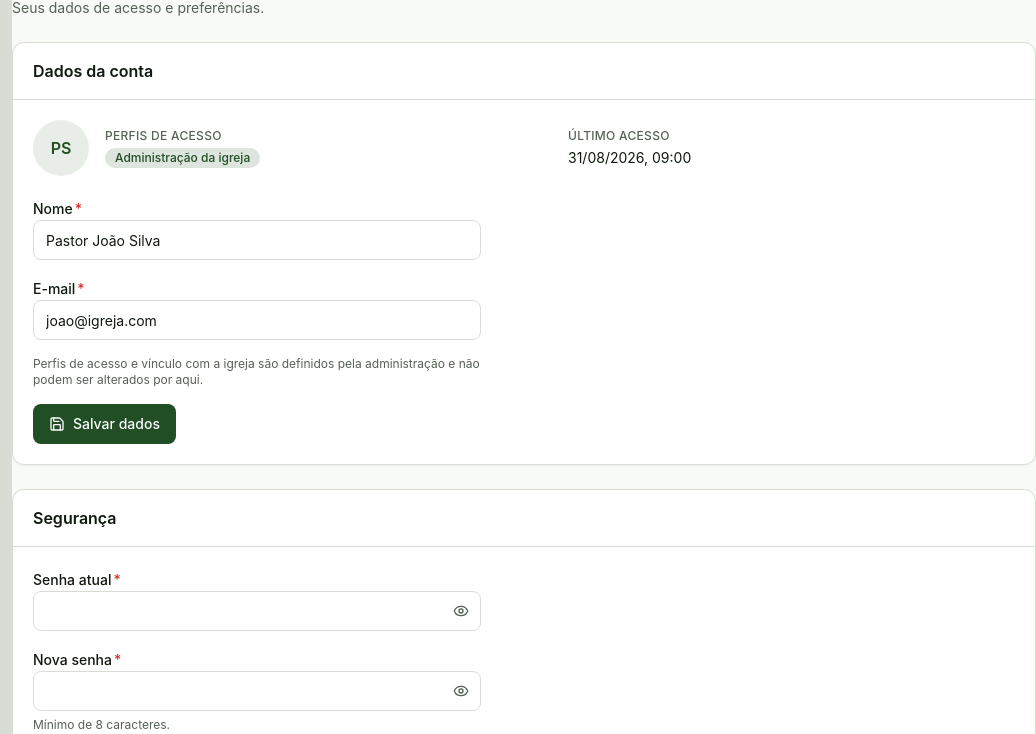
minha conta › exige que a confirmação da nova senha confira
Type "senhaAntiga1" into the password field labelled "Senha atual*".
click(257, 611); type("senhaAntiga1")  # box [33, 591, 481, 631]
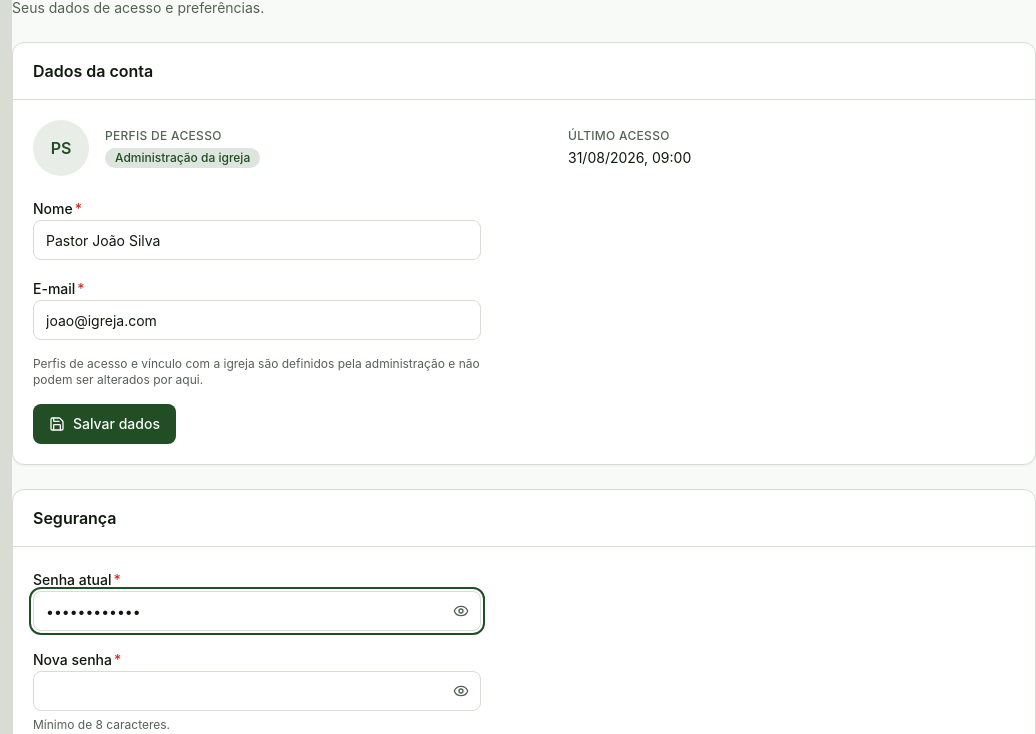
Type "senhaNova123" into the password field labelled "Nova senha*".
click(257, 691); type("senhaNova123")  # box [33, 671, 481, 711]
(page scrolled)
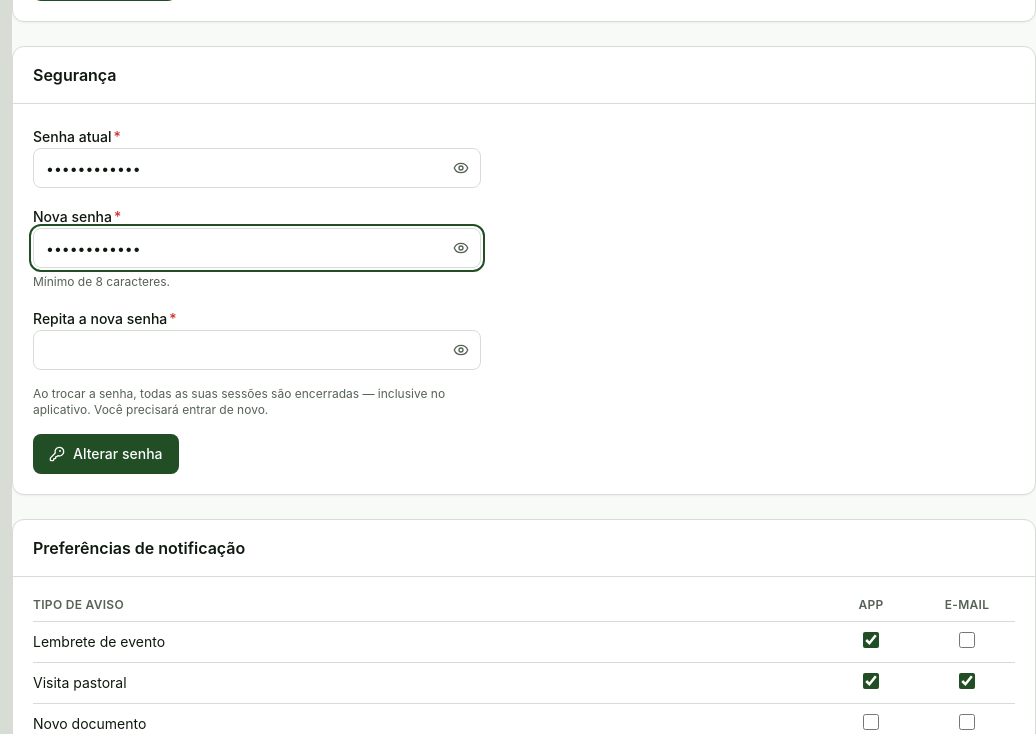
Type "senhaDiferente" into the password field labelled "Repita a nova senha*".
click(257, 350); type("senhaDiferente")  # box [33, 330, 481, 370]
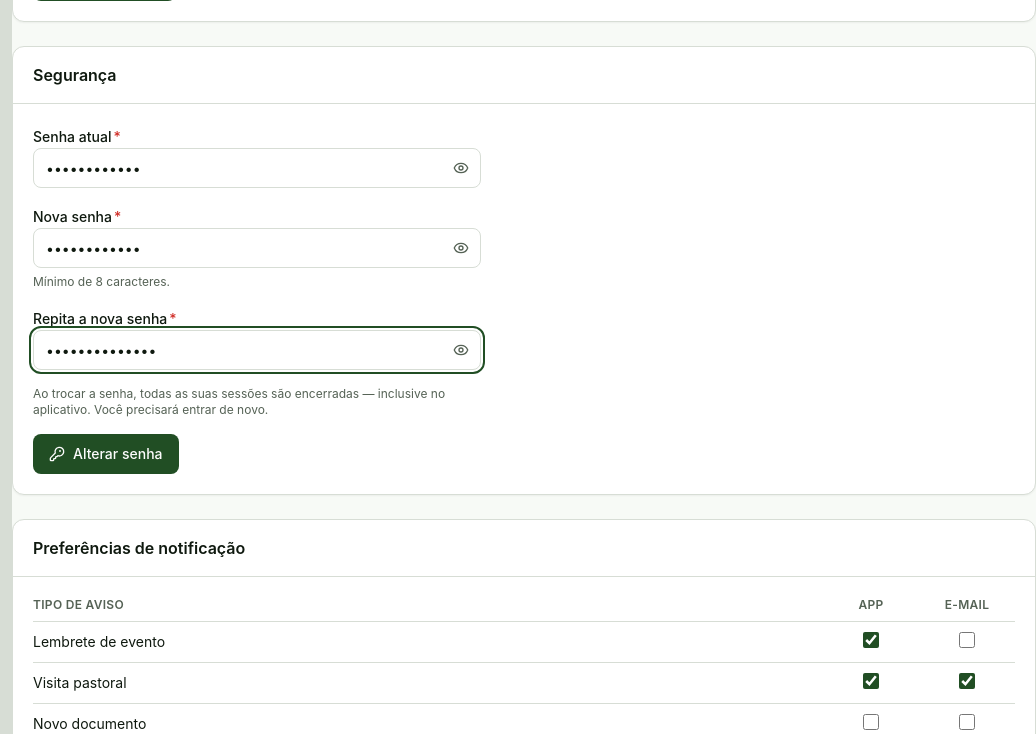
Click the button "Alterar senha".
click(106, 454)  # box [33, 434, 178, 474]
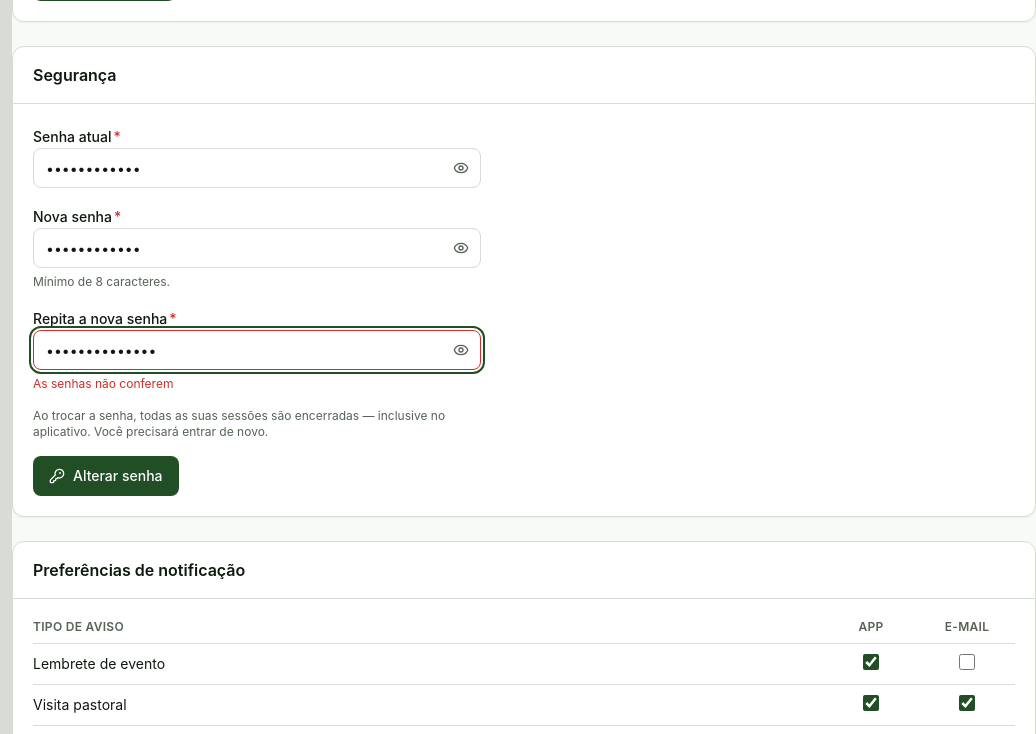
Now the text "As senhas não conferem" is shown, box [33, 376, 173, 391]
